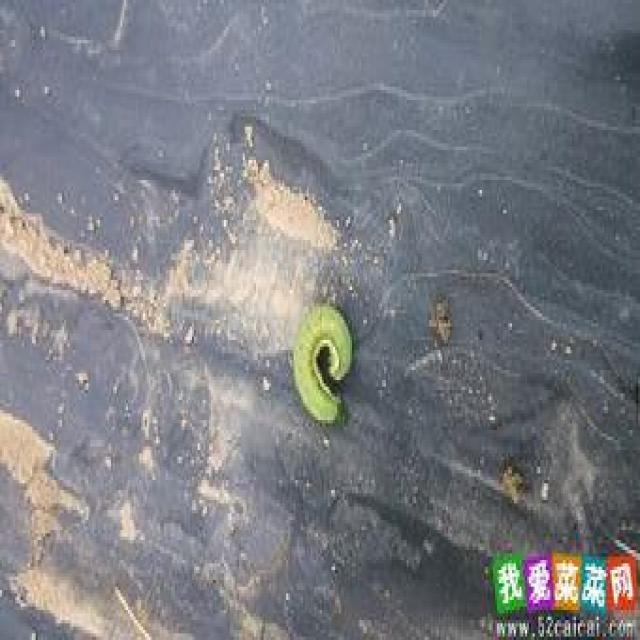BeetArmyWorm-Larva-: (291, 297, 354, 434)
